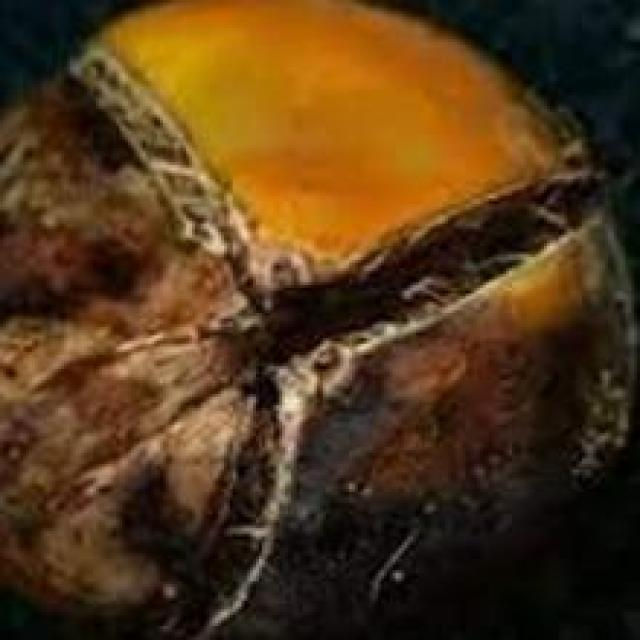damaged: (0, 0, 634, 637)
